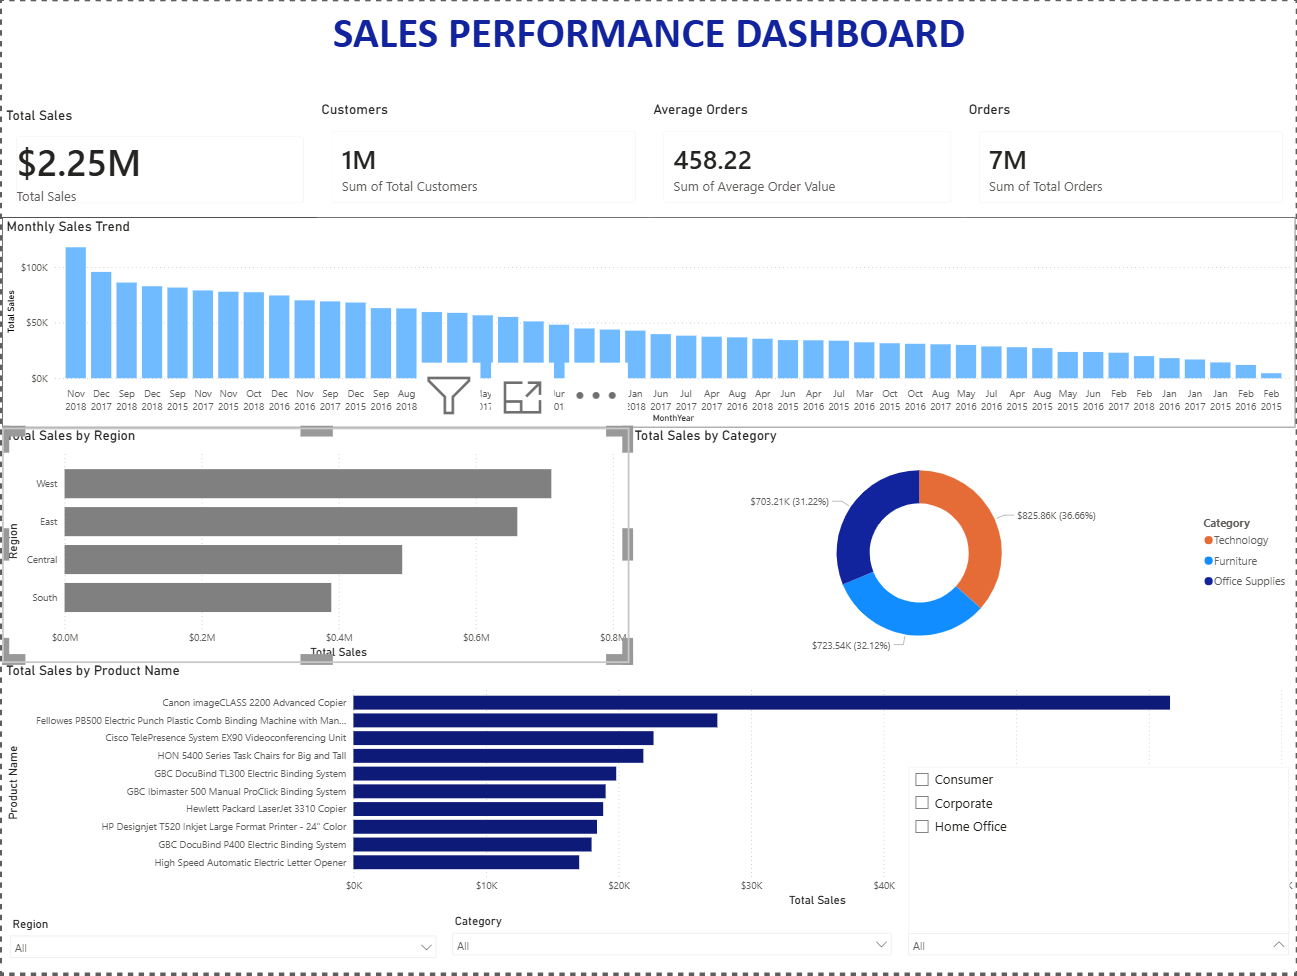

The page's visual inventory and layout, read from the dashboard file:
{"tool":"powerbi","page":{"name":"Page 1","canvas":[1600,1200],"ordinal":0},"visuals":[{"type":"cardVisual","title":"Total Sales","fields":{"Data":["DateTable.Total Sales"]},"box":[0,130,390,136.7],"z":0},{"type":"clusteredColumnChart","title":"Monthly Sales Trend","fields":{"Y":["DateTable.Total Sales"],"Category":["DateTable.MonthYear"]},"box":[0,266.7,1600,260],"z":1000},{"type":"clusteredBarChart","fields":{"Y":["DateTable.Total Sales"],"Category":["Orders.Region"]},"box":[0,526.7,776.7,290],"z":2000},{"type":"donutChart","fields":{"Category":["Orders.Category"],"Y":["DateTable.Total Sales"]},"box":[776.7,526.7,823.3,290],"z":3000},{"type":"barChart","fields":{"Y":["DateTable.Total Sales"],"Category":["Orders.Product Name"]},"box":[0,816.7,1600,306.7],"z":4000},{"type":"textbox","box":[0,0,1600,123.3],"z":5000},{"type":"cardVisual","title":"Orders","fields":{"Data":["Sum(DateTable.Total Orders)"]},"box":[1190,123.3,410,143.3],"z":6000},{"type":"cardVisual","title":"Customers","fields":{"Data":["Sum(DateTable.Total Customers)"]},"box":[390,123.3,410,143.3],"z":7000},{"type":"cardVisual","title":"Average Orders","fields":{"Data":["Sum(DateTable.Average Order Value)"]},"box":[800,123.3,390,143.3],"z":8000},{"type":"slicer","fields":{"Values":["Orders.Region"]},"box":[0,1125,546.9,75],"z":9000},{"type":"slicer","fields":{"Values":["Orders.Category"]},"box":[546.9,1121.9,562.5,78.1],"z":10000},{"type":"slicer","fields":{"Values":["Orders.Segment"]},"box":[1109.4,1121.9,490.6,78.1],"z":11000}]}

Visuals, with their boxes in screenshot pixels (x1, y1, x2, y2), scaled from the page's 1600x1200 canvas onto the 1297x976 screenshot:
"Total Sales" cardVisual: <region>0, 106, 316, 217</region>
"Monthly Sales Trend" clusteredColumnChart: <region>0, 217, 1296, 428</region>
clusteredBarChart - DateTable.Total Sales x Orders.Region: <region>0, 428, 630, 664</region>
donutChart - Orders.Category x DateTable.Total Sales: <region>630, 428, 1296, 664</region>
barChart - DateTable.Total Sales x Orders.Product Name: <region>0, 664, 1296, 914</region>
textbox: <region>0, 0, 1296, 100</region>
"Orders" cardVisual: <region>965, 100, 1296, 217</region>
"Customers" cardVisual: <region>316, 100, 648, 217</region>
"Average Orders" cardVisual: <region>648, 100, 965, 217</region>
slicer - Orders.Region: <region>0, 915, 443, 975</region>
slicer - Orders.Category: <region>443, 912, 899, 975</region>
slicer - Orders.Segment: <region>899, 912, 1296, 975</region>
